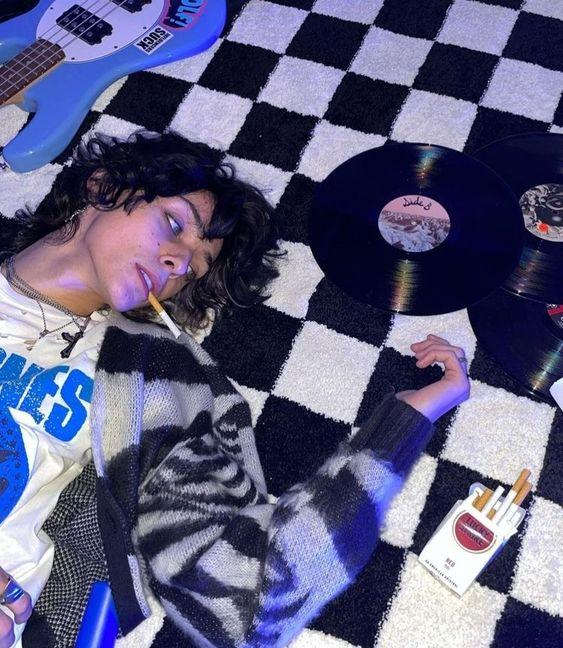cigarette: (147, 296, 186, 340)
